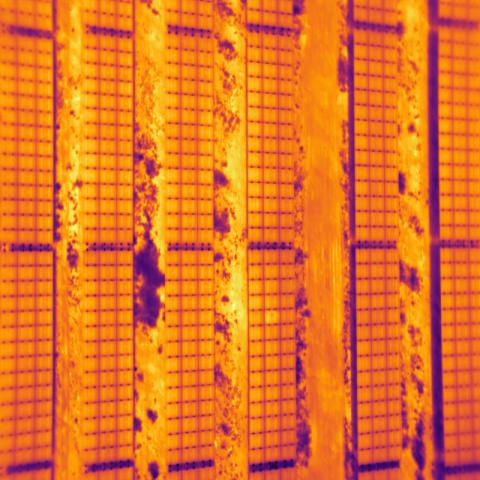fault: (265, 309, 280, 326)
